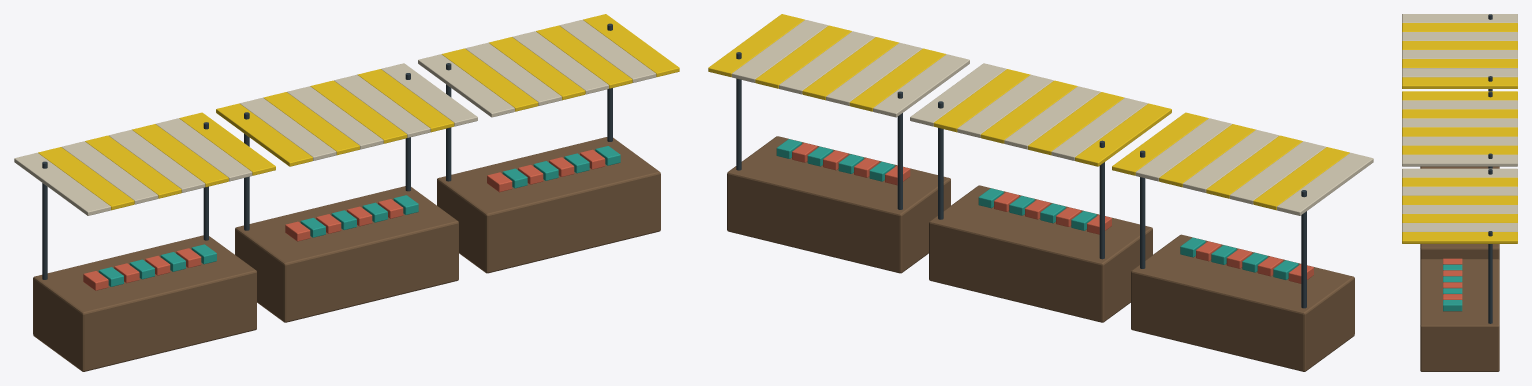
File: flea-market.glb
The picture shows the model from 3 angles, left to right: view 1: azimuth 30°, elevation 25°; view 2: azimuth 150°, elevation 25°; view 3: azimuth 270°, elevation 25°; orthographic projection. The views are drawn at different scales.
Visible parts, largest first — view 1: DC_Mesh_DC_Wood, DC_Mesh_DC_Ivory, DC_Mesh_DC_Yellow, DC_Mesh_DC_Coral, DC_Mesh_DC_Teal, DC_Mesh_DC_Steel; view 2: DC_Mesh_DC_Wood, DC_Mesh_DC_Ivory, DC_Mesh_DC_Yellow, DC_Mesh_DC_Teal, DC_Mesh_DC_Coral, DC_Mesh_DC_Steel; view 3: DC_Mesh_DC_Yellow, DC_Mesh_DC_Ivory, DC_Mesh_DC_Wood, DC_Mesh_DC_Teal, DC_Mesh_DC_Steel, DC_Mesh_DC_Coral.
Boxes of the visible parts, x1,y1,x2,y2 form: DC_Mesh_DC_Wood: (33, 137, 660, 371); DC_Mesh_DC_Ivory: (14, 19, 656, 215); DC_Mesh_DC_Yellow: (38, 14, 679, 210); DC_Mesh_DC_Coral: (83, 149, 605, 290); DC_Mesh_DC_Teal: (98, 146, 620, 286); DC_Mesh_DC_Steel: (42, 23, 612, 279); DC_Mesh_DC_Wood: (727, 136, 1354, 371); DC_Mesh_DC_Ivory: (731, 19, 1373, 215); DC_Mesh_DC_Yellow: (708, 14, 1349, 210); DC_Mesh_DC_Teal: (776, 139, 1298, 279); DC_Mesh_DC_Coral: (792, 143, 1313, 283); DC_Mesh_DC_Steel: (736, 52, 1306, 308); DC_Mesh_DC_Yellow: (1402, 23, 1517, 243); DC_Mesh_DC_Ivory: (1402, 14, 1517, 231); DC_Mesh_DC_Wood: (1420, 166, 1499, 371); DC_Mesh_DC_Teal: (1443, 264, 1462, 311); DC_Mesh_DC_Steel: (1488, 14, 1492, 323); DC_Mesh_DC_Coral: (1443, 258, 1462, 299).
Bounding box in the file's own units: 8.8 × 2.5 × 1.9.
